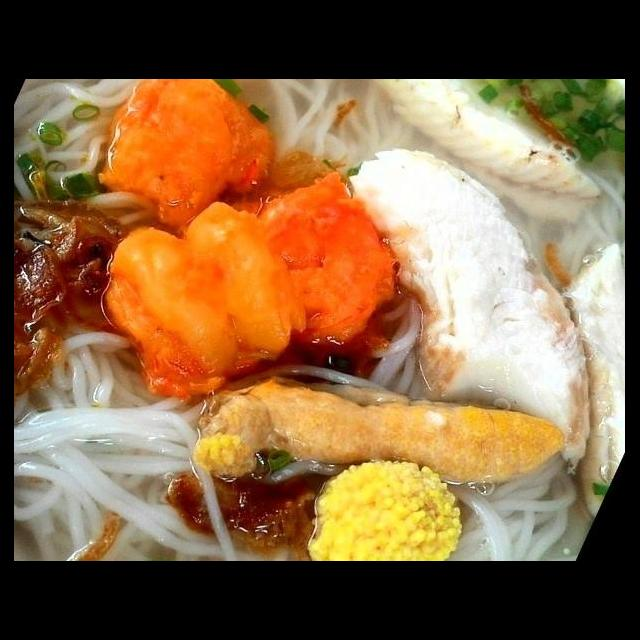bun: (16, 322, 220, 561), (15, 80, 154, 211), (451, 449, 582, 561), (304, 286, 428, 404)
bun ca: (32, 93, 626, 561)
ca: (336, 139, 598, 480), (370, 80, 608, 231), (552, 232, 626, 521)
tom: (96, 195, 314, 410), (225, 167, 404, 357), (94, 80, 280, 234)
